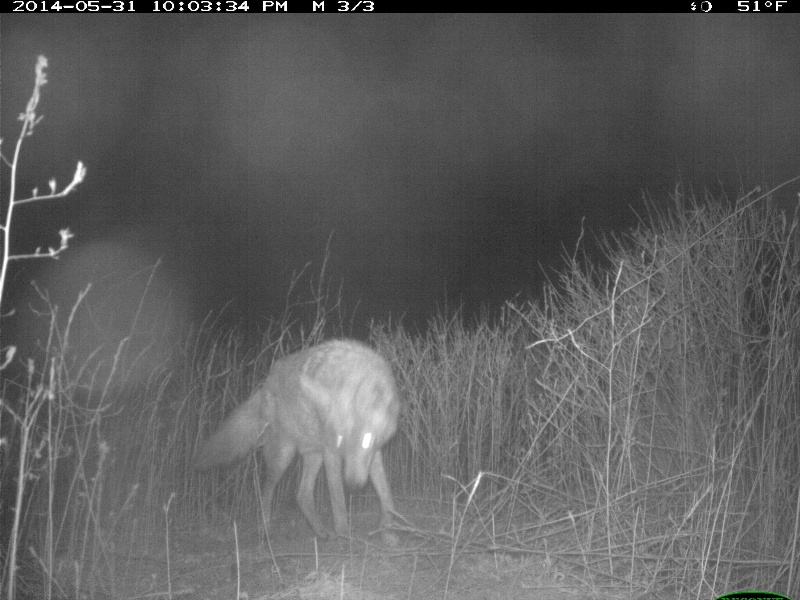coyote: (191, 337, 407, 551)
